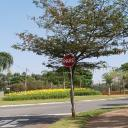Pare: (61, 54, 76, 67)
